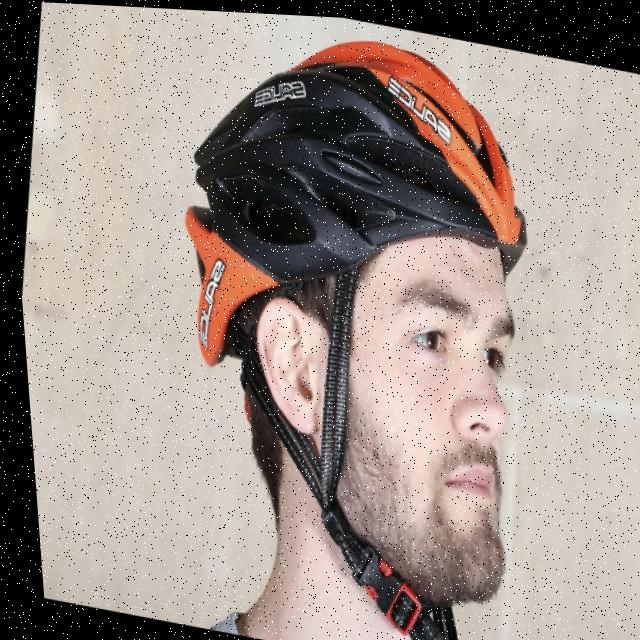illegal_helmet: (105, 4, 581, 640)
